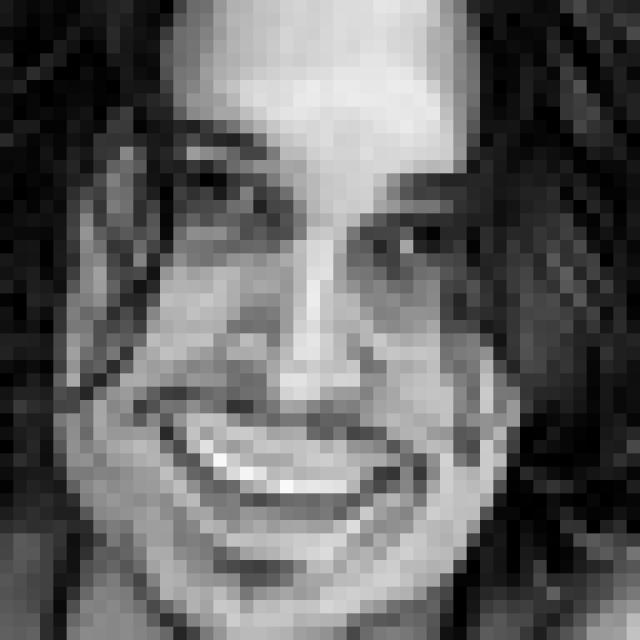happy: (101, 110, 477, 564)
